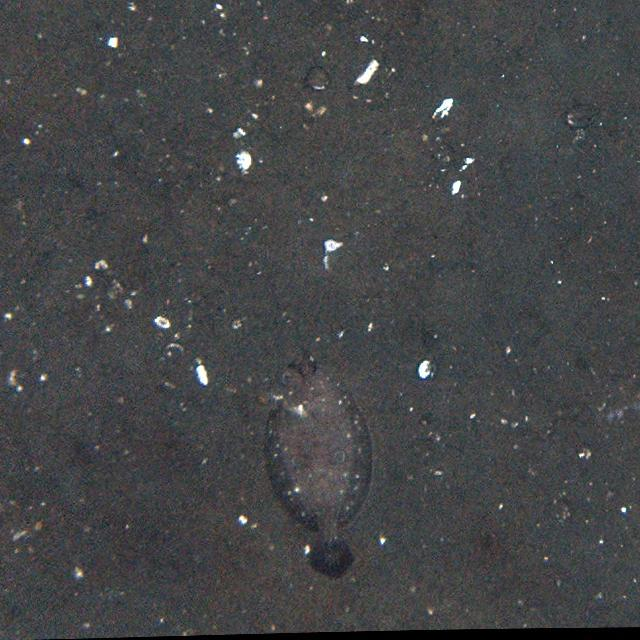flatfish: (268, 349, 374, 582)
